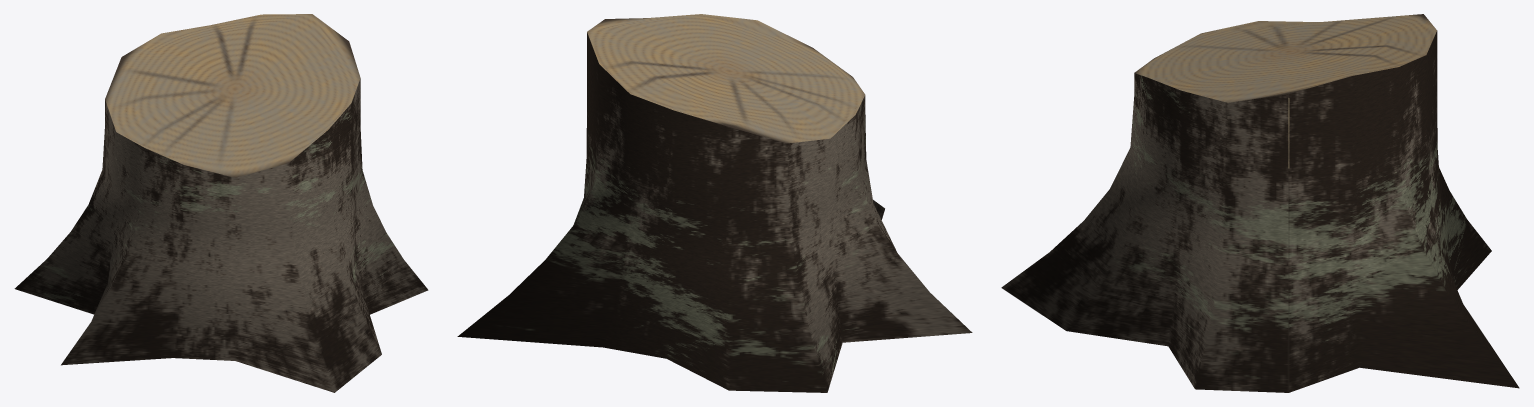
Rendered from stump.glb.
The picture shows the model from 3 angles, left to right: view 1: azimuth 30°, elevation 25°; view 2: azimuth 150°, elevation 25°; view 3: azimuth 270°, elevation 25°; orthographic projection. The views are drawn at different scales.
Parts seen in each view (by area): view 1: stump; view 2: stump; view 3: stump.
Boxes of the visible parts, bbox=[...] form: stump: bbox=[14, 14, 428, 392]; stump: bbox=[457, 14, 972, 392]; stump: bbox=[1001, 14, 1519, 392].
Bounding box in the file's own units: 0.9455 × 0.6038 × 0.9979.
Materials: 1 (1 with a texture image).
